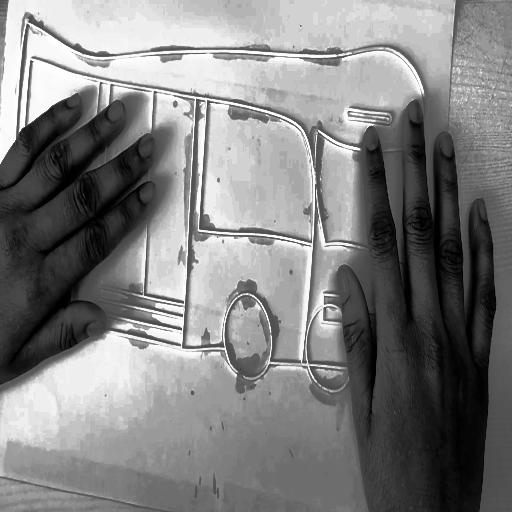bus: (0, 4, 435, 426)
